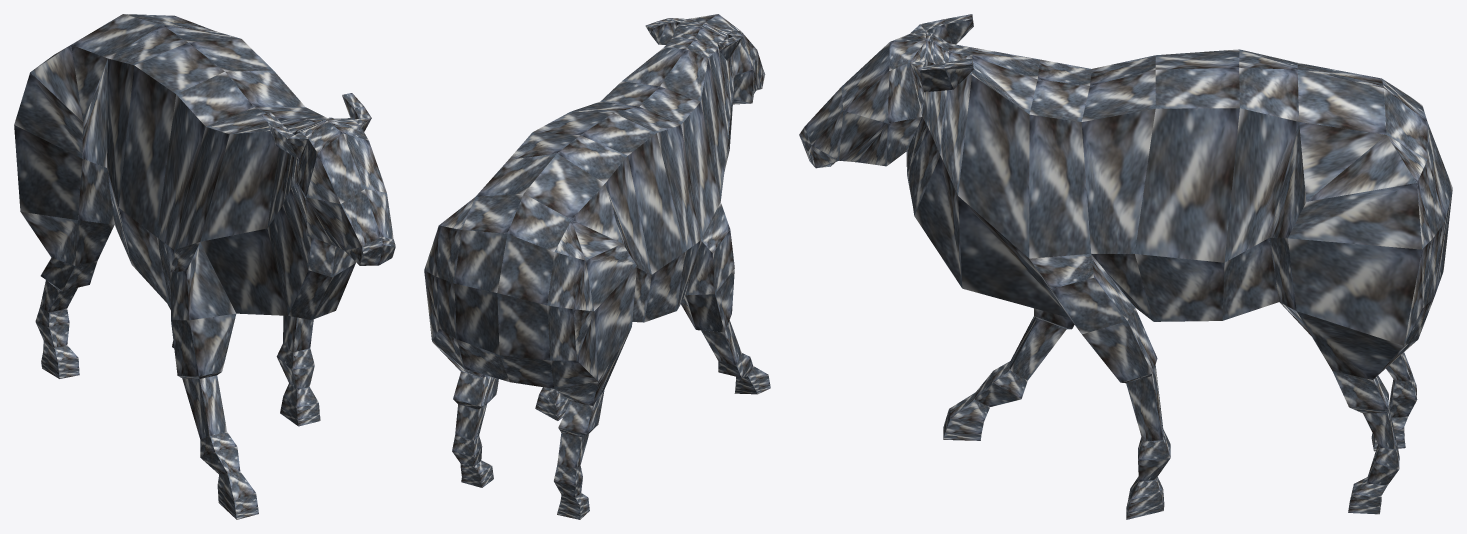
Rendered from SheepIdle_000016.obj.
3 views of the same model, side by side, from view 1: azimuth 30°, elevation 25°; view 2: azimuth 150°, elevation 25°; view 3: azimuth 270°, elevation 25° (orthographic). The views are drawn at different scales.
Visible parts, largest first — view 1: Sheep_Cylinder; view 2: Sheep_Cylinder; view 3: Sheep_Cylinder.
Boxes of the visible parts, bbox=[...] form: Sheep_Cylinder: bbox=[14, 14, 395, 519]; Sheep_Cylinder: bbox=[424, 14, 770, 519]; Sheep_Cylinder: bbox=[799, 14, 1452, 519].
Size of the model in its own units: 2.22 by 4.39 by 5.92.
